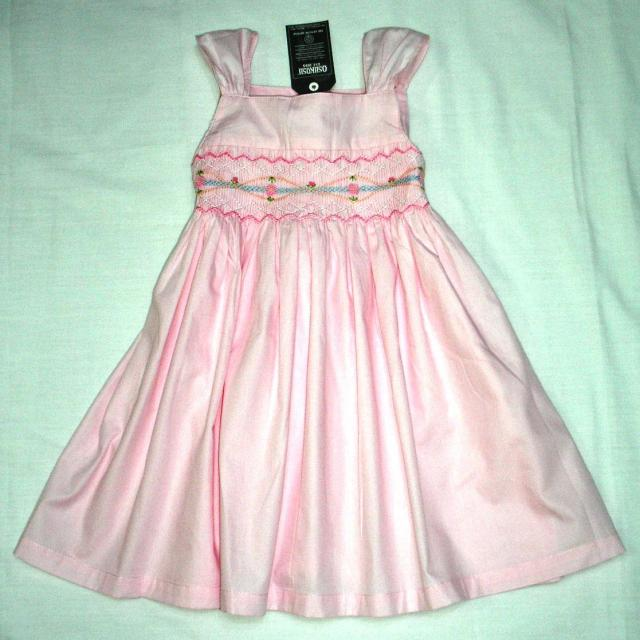Dress: (20, 22, 633, 623)
